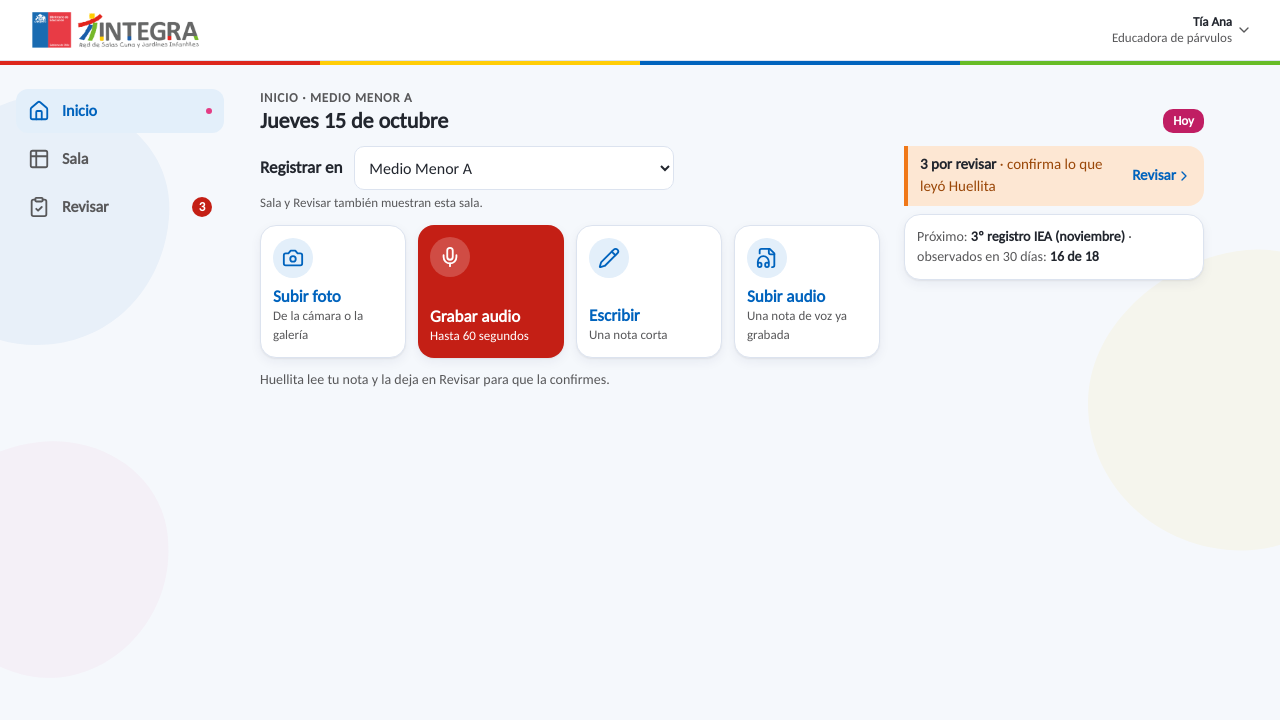
Test: Inicio › Subir audio abre la hoja para elegir una nota de voz
Click the button "Subir audio Una nota de voz ya grabada" at (807, 292), box x1=734 y1=225 x2=880 y2=358
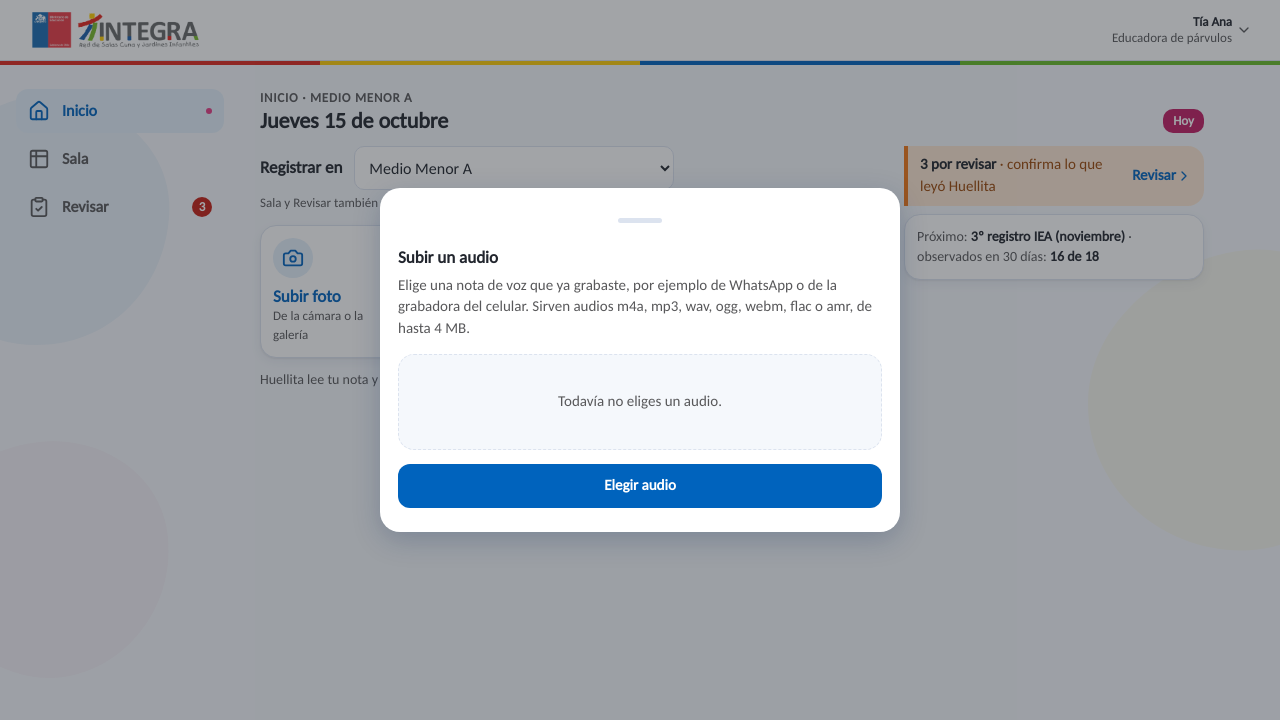
Result: the text "hasta 4 MB" is shown at x1=398 y1=297 x2=872 y2=337
